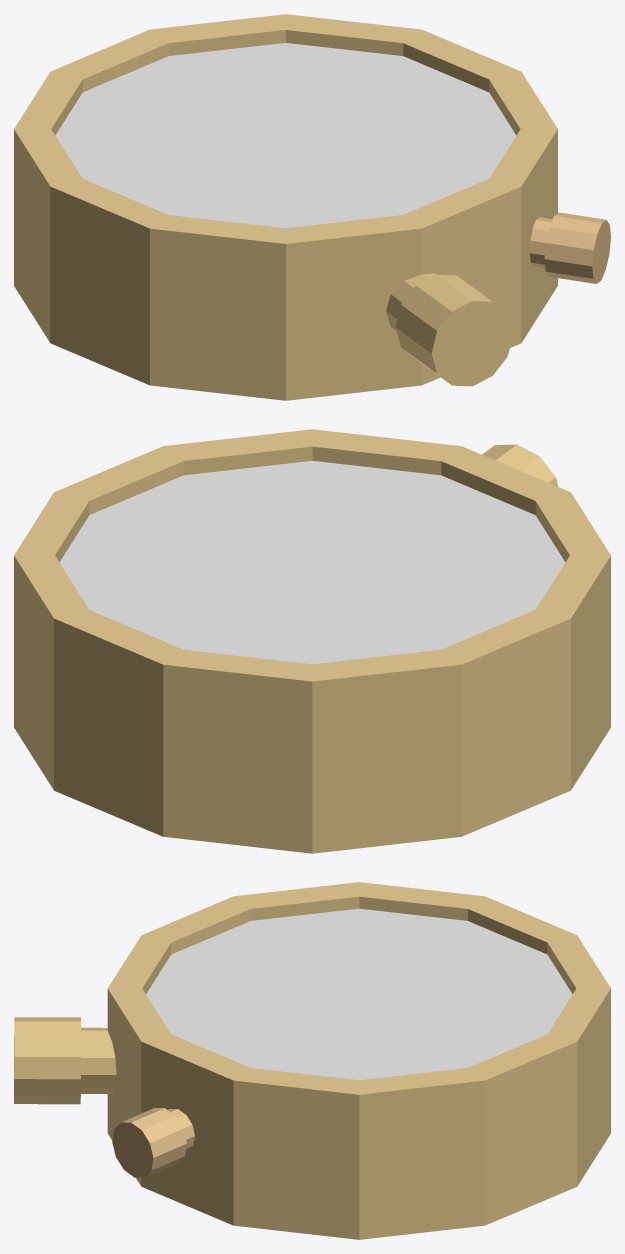
The model's file is Item_PocketWatch.fbx.
3 views of the same model, one above another, from view 1: azimuth 30°, elevation 25°; view 2: azimuth 150°, elevation 25°; view 3: azimuth 270°, elevation 25° (orthographic). The views are drawn at different scales.
Visible parts, largest first — view 1: Cylinder, Cylinder.001, Cylinder.002; view 2: Cylinder, Cylinder.001; view 3: Cylinder, Cylinder.001, Cylinder.002.
Part boxes in pixels (<box>): Cylinder: <box>14,14,557,400</box>; Cylinder.001: <box>386,273,513,386</box>; Cylinder.002: <box>530,212,610,283</box>; Cylinder: <box>14,429,610,853</box>; Cylinder.001: <box>482,444,558,486</box>; Cylinder: <box>107,882,610,1239</box>; Cylinder.001: <box>14,1017,116,1104</box>; Cylinder.002: <box>112,1108,194,1177</box>.
Bounding box in the file's own units: 18.35 × 5.84 × 21.76.
